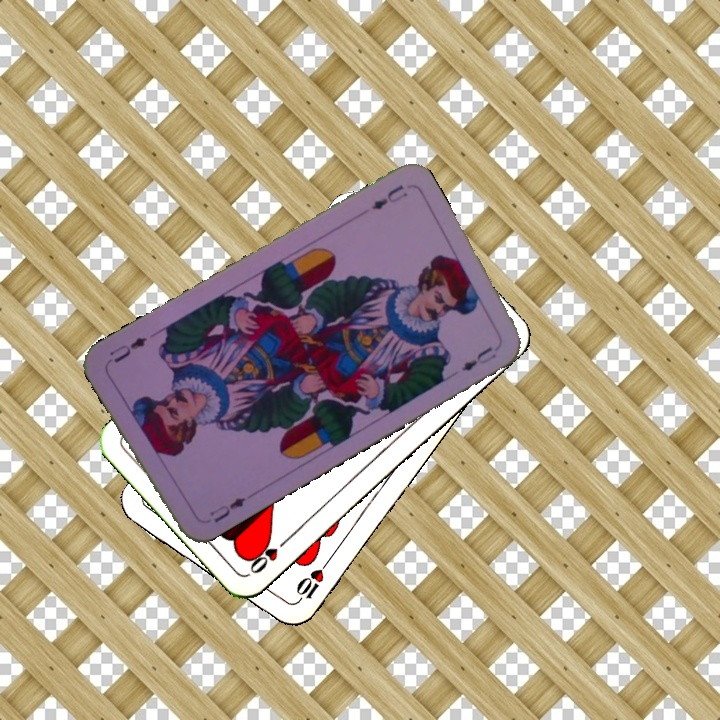EU: (366, 180, 410, 213), (205, 493, 249, 525)
H10: (290, 557, 332, 607)
HO: (244, 532, 293, 577)
